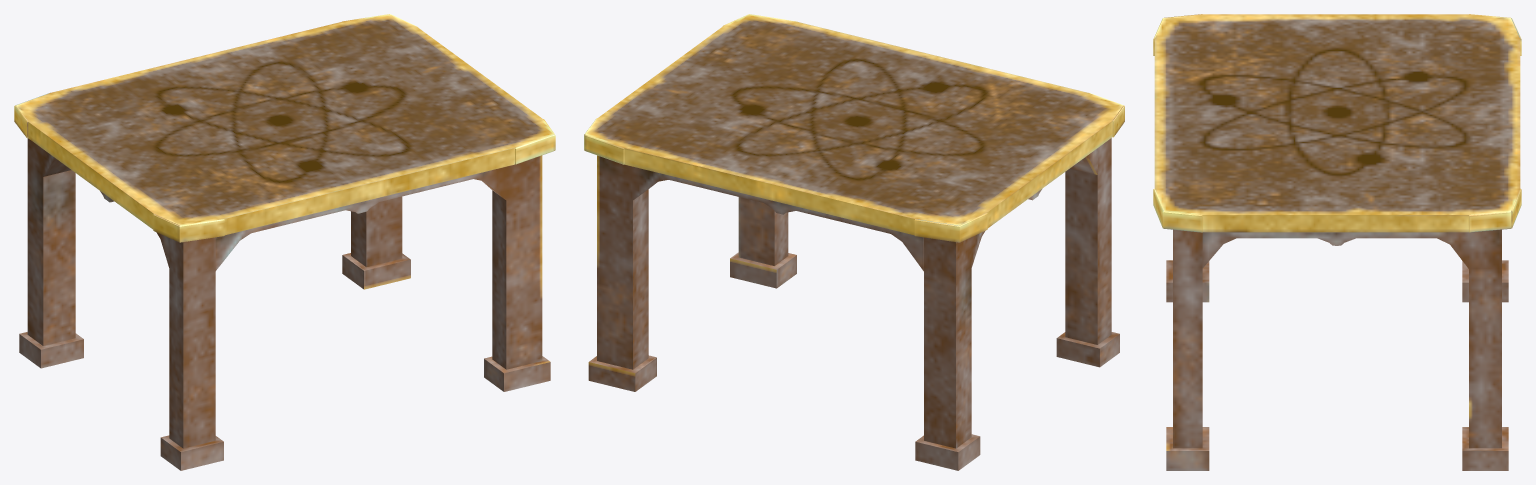
File: WoodenTable.fbx
3 renders of one model, left to right at view 1: azimuth 30°, elevation 25°; view 2: azimuth 150°, elevation 25°; view 3: azimuth 270°, elevation 25°, orthographic. The views are drawn at different scales.
Visible parts, largest first — view 1: Wooden_Table_High; view 2: Wooden_Table_High; view 3: Wooden_Table_High.
Boxes of the visible parts, x1,y1,x2,y2 form: Wooden_Table_High: (14, 14, 555, 470); Wooden_Table_High: (584, 14, 1124, 470); Wooden_Table_High: (1153, 14, 1521, 470).
Bounding box in the file's own units: 174 × 105 × 134.
Materials: 1 (1 with a texture image).
